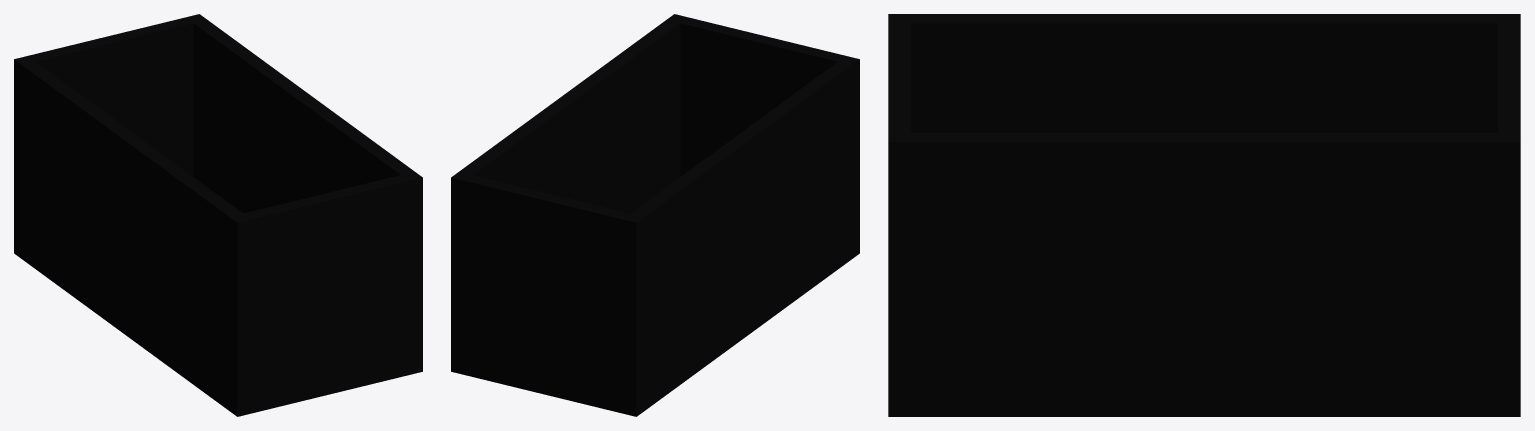
3 renders of one model, left to right at view 1: azimuth 30°, elevation 25°; view 2: azimuth 150°, elevation 25°; view 3: azimuth 270°, elevation 25°, orthographic. The views are drawn at different scales.
Parts seen in each view (by area): view 1: Box_267x557x267; view 2: Box_267x557x267; view 3: Box_267x557x267.
Boxes of the visible parts, box(x1,y1,x2,y2) form: Box_267x557x267: box(14, 14, 422, 416); Box_267x557x267: box(451, 14, 859, 416); Box_267x557x267: box(888, 14, 1520, 416).
Bounding box in the file's own units: 0.267 × 0.267 × 0.557.
1 material, 1 textured.
